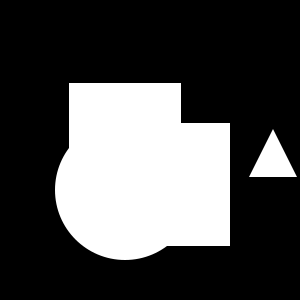circle: (107, 123, 230, 246), (69, 83, 181, 195)
rectangle: (55, 120, 195, 260)
triangle: (249, 129, 297, 177)
